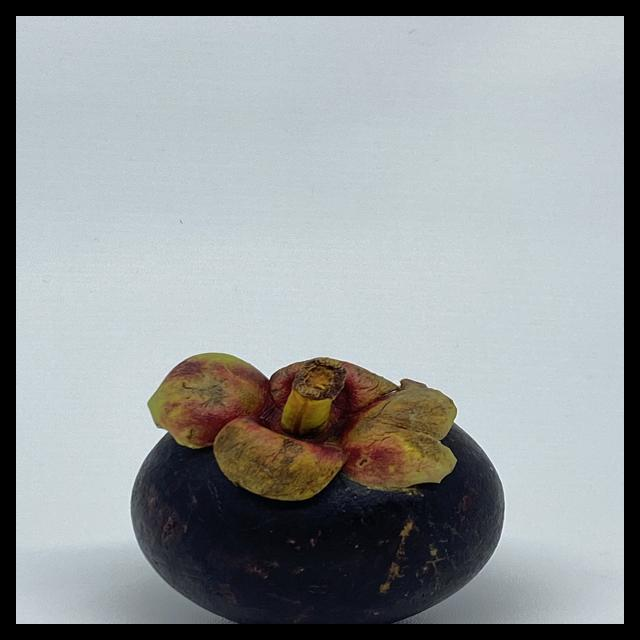mangosteen: (122, 340, 523, 624)
